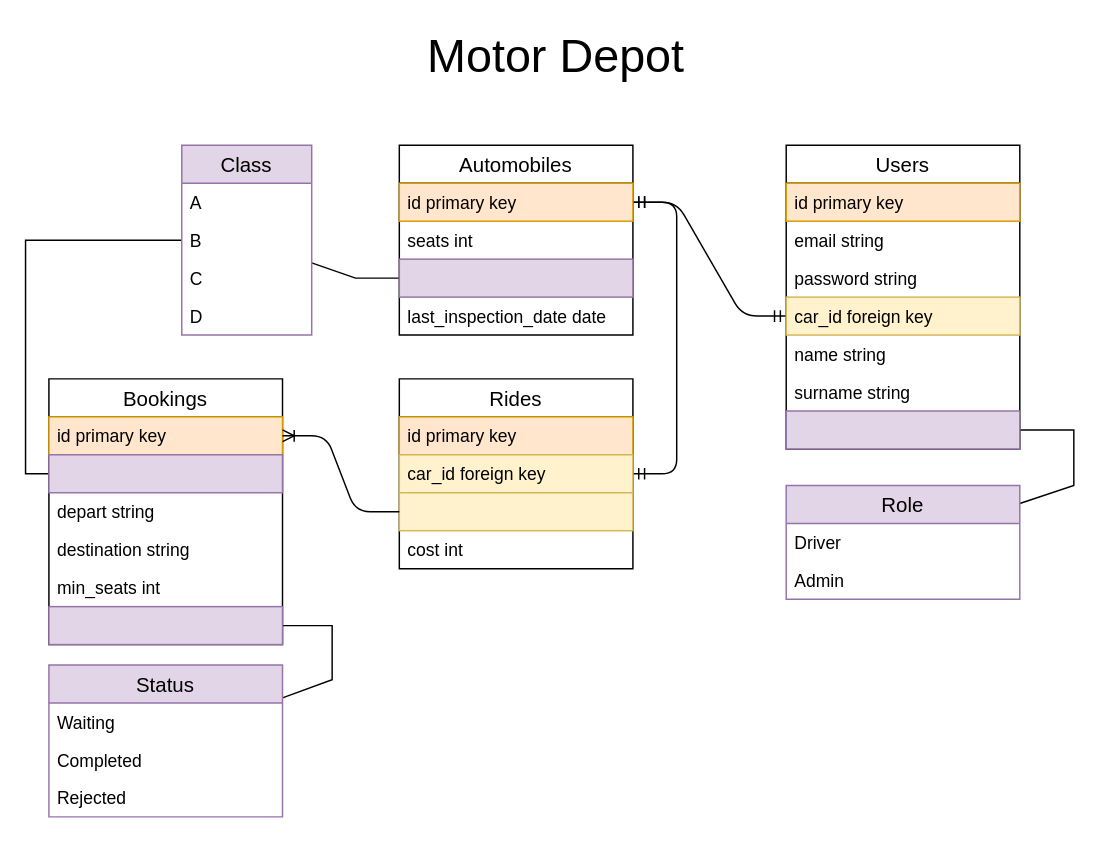
Some shapes in this 1101 by 845 pixel diagram are drawn without their labels. The shapes that lost their labels are listed below. From the top down, each one's centre as x and y in pixels, then its label:
At point (515, 277): "class class".
At point (902, 429): "role role".
At point (165, 473): "min_class enum".
At point (515, 511): "booking_id foreign key".
At point (165, 625): "status enum".
